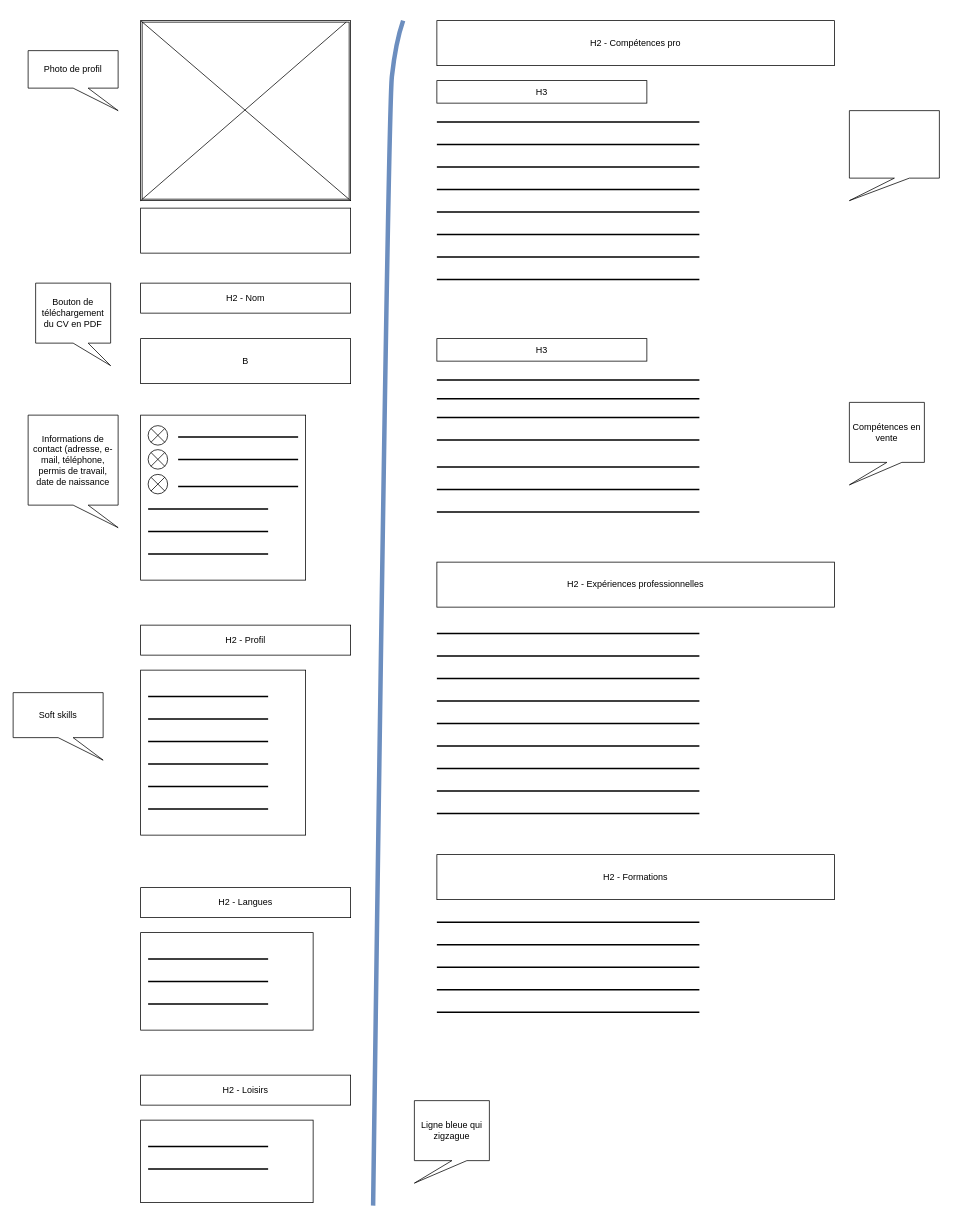
Some shapes in this 953 by 1226 pixel diagram are drawn without their labels. The shapes that lost their labels are listed below. From the top down, each one's centre as x and y in pixels, then its label:
[894,155]: Compétences en lnformatique
[245,230]: H1 - Emploi
